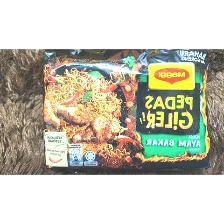snack: (35, 48, 217, 174)
